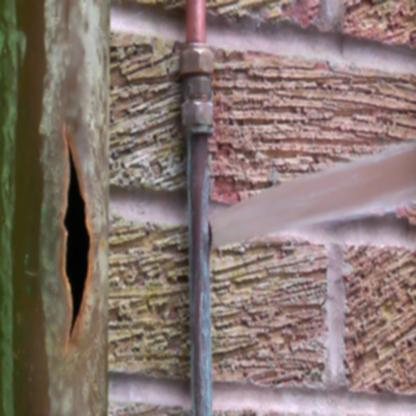burst: (43, 132, 103, 351)
